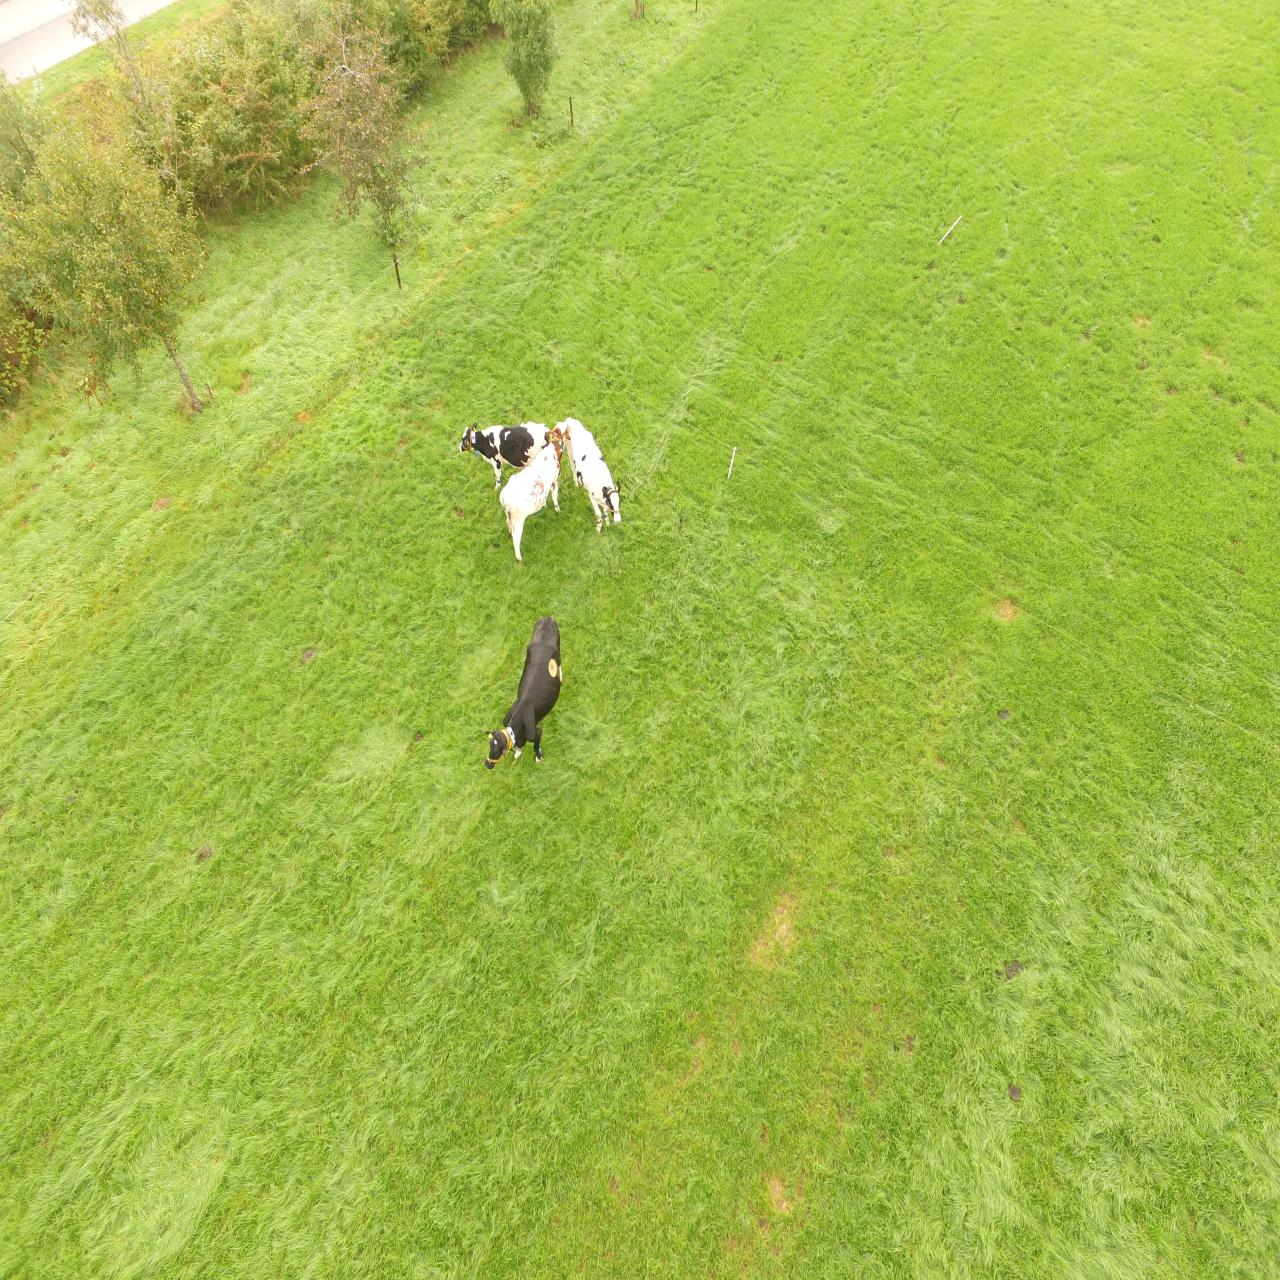cow: (488, 614, 563, 776), (499, 424, 563, 563), (557, 416, 624, 533), (458, 420, 559, 488)
